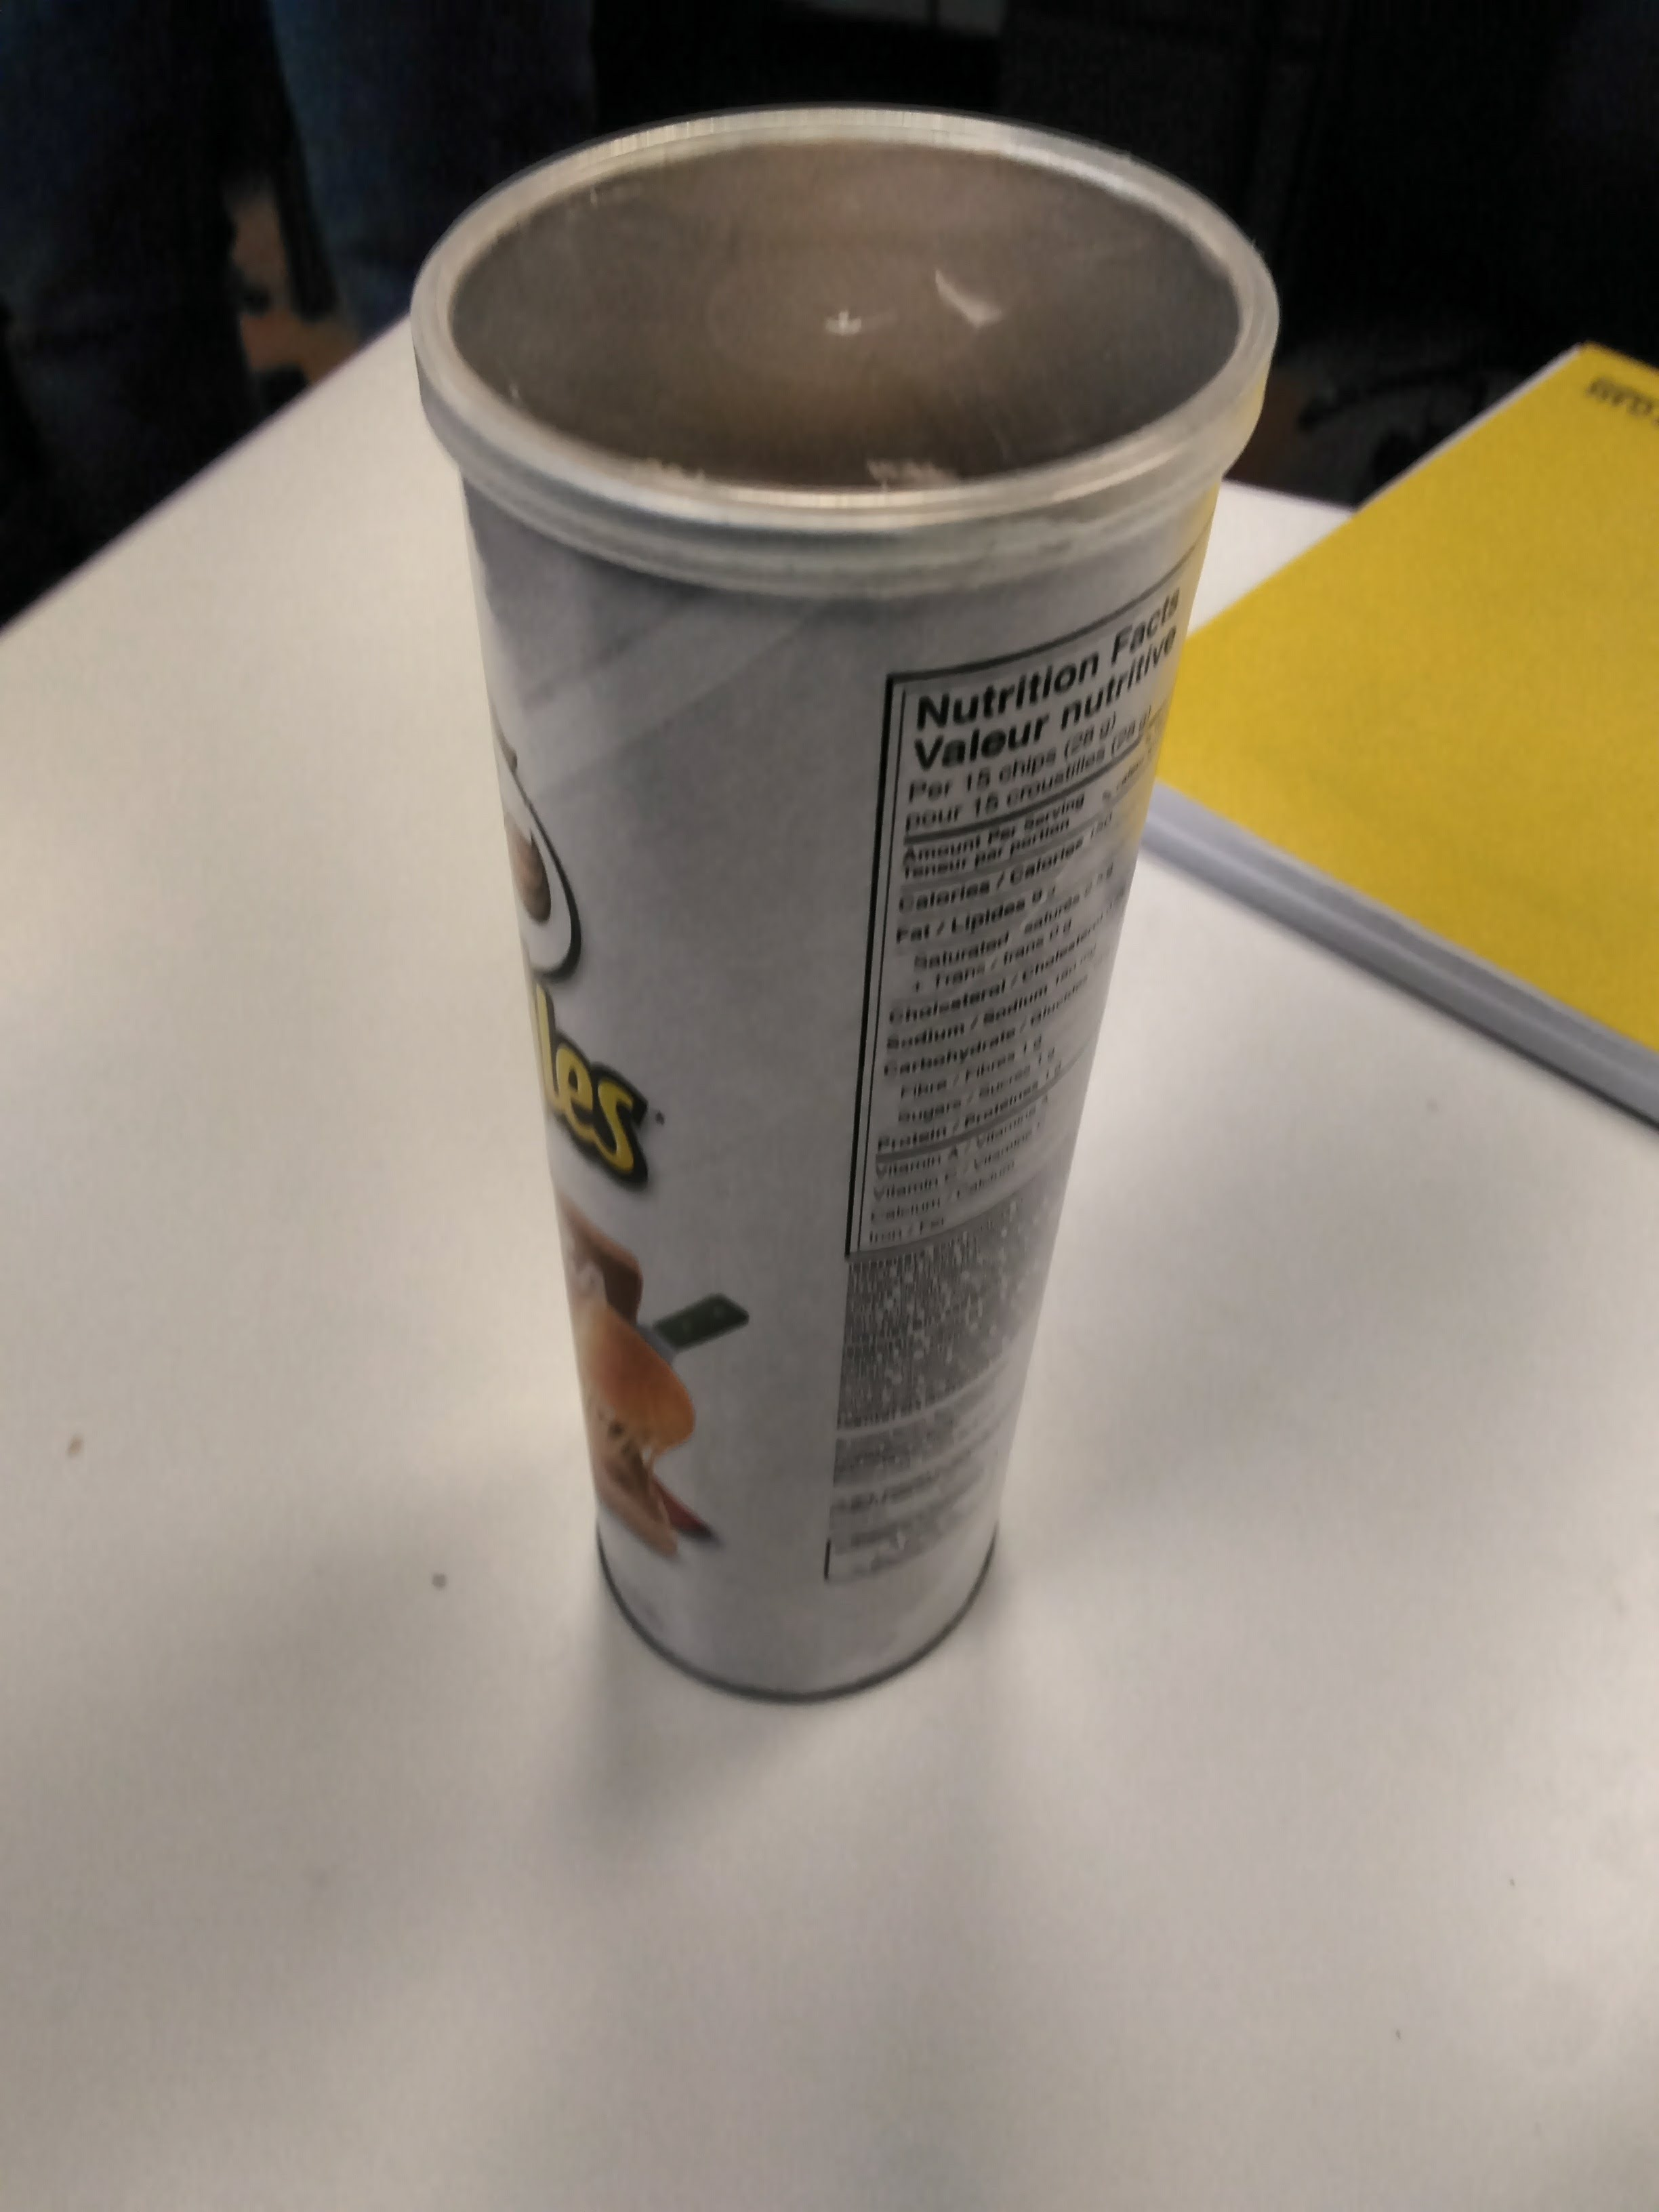pringles: (427, 120, 1291, 1733)
